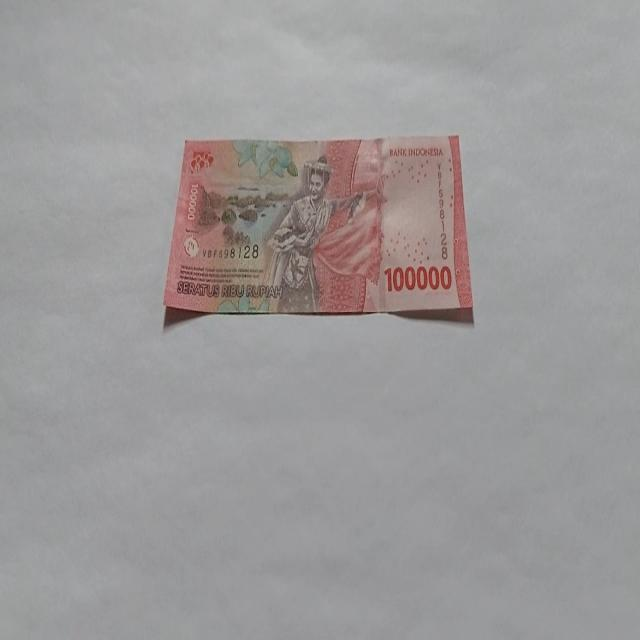seratus ribu rupiah: (162, 134, 474, 326), (261, 154, 366, 314)
